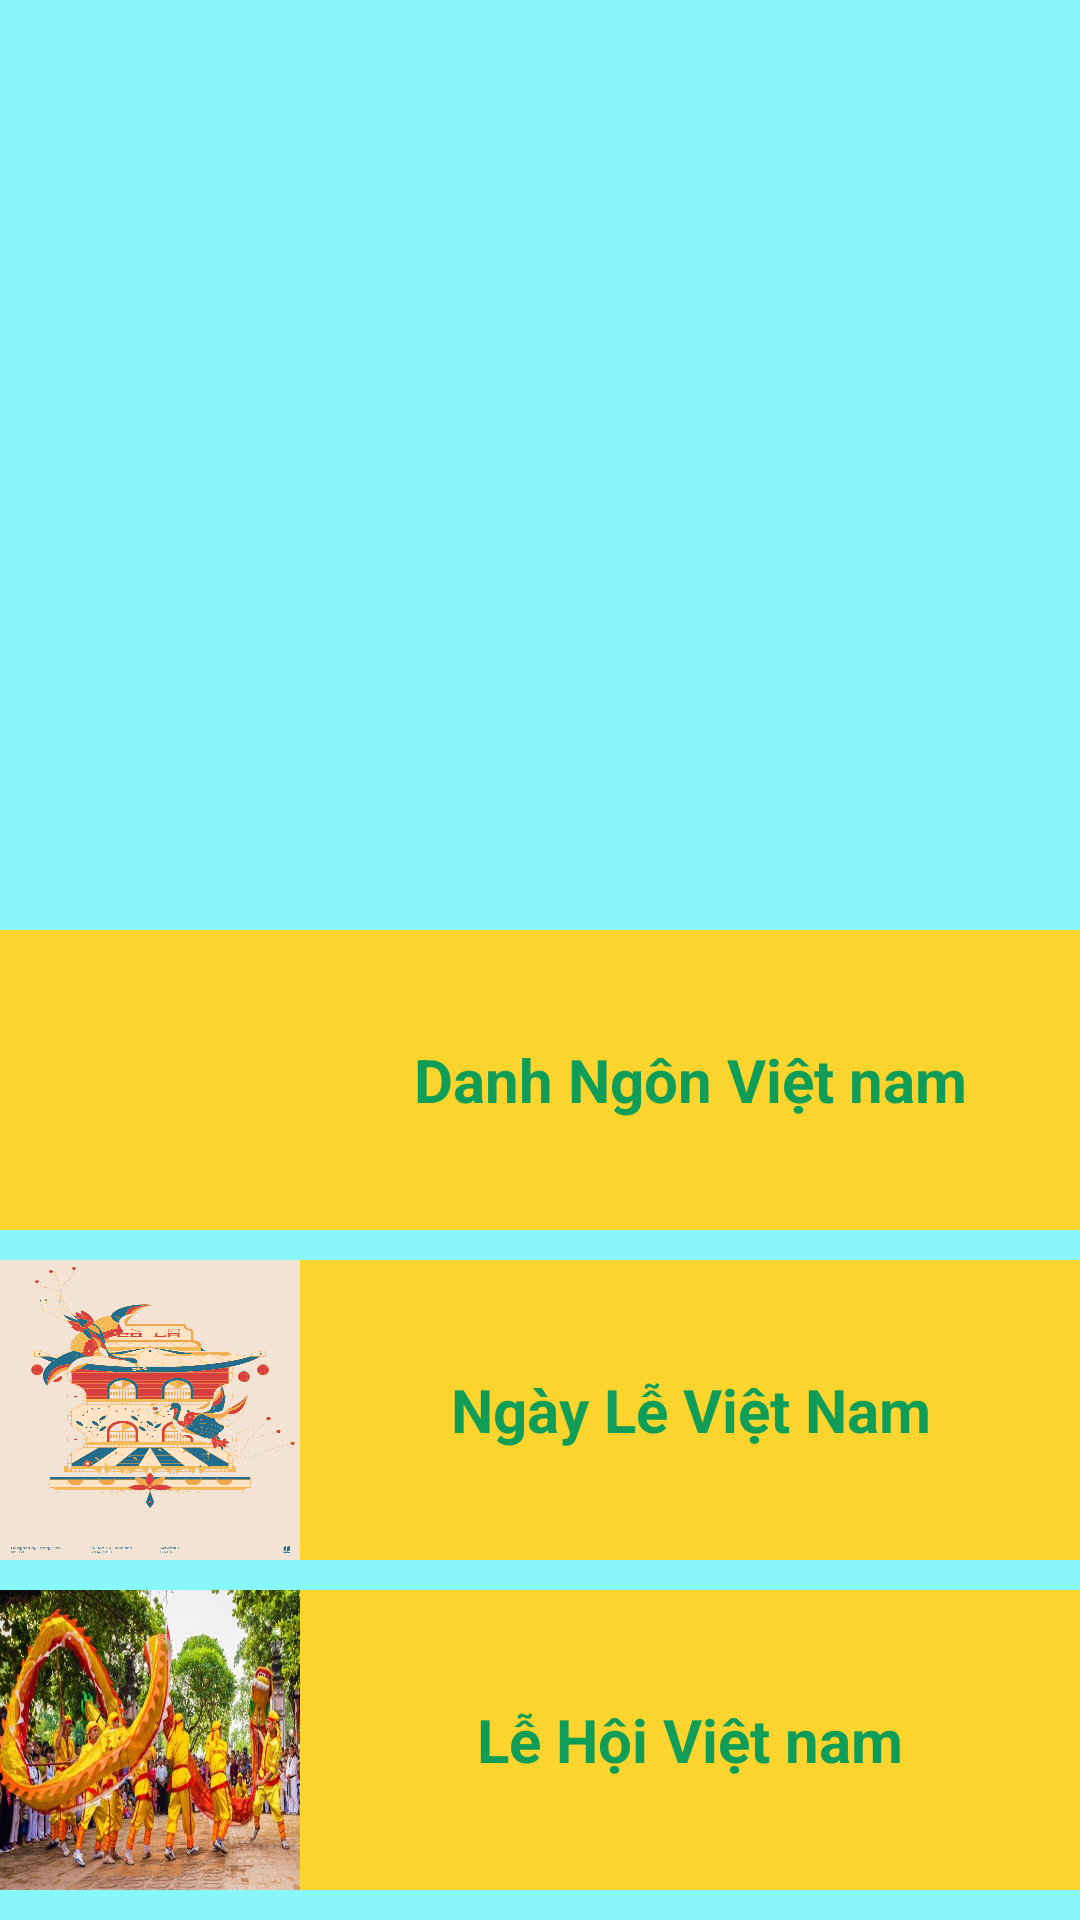

Where to tap for icons on this 1080 × 1920 app screen, as (x=x, y=y):
lehoi: (x=150, y=1740)
ngayle: (x=150, y=1410)
